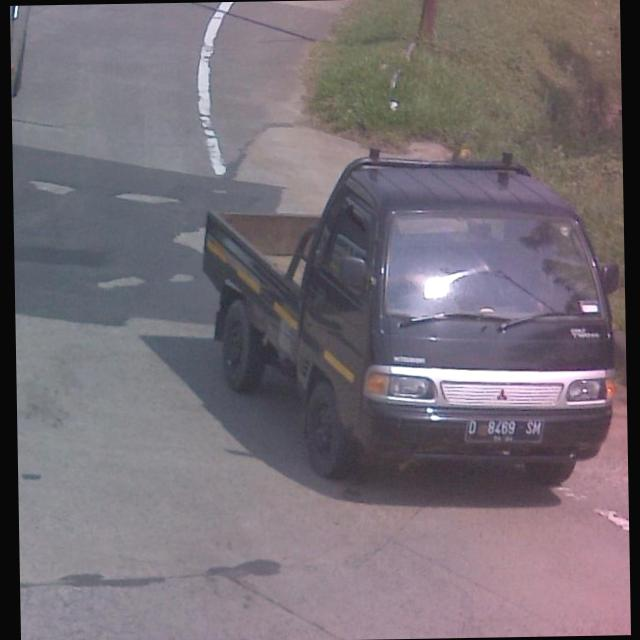plate: (466, 416, 546, 447)
